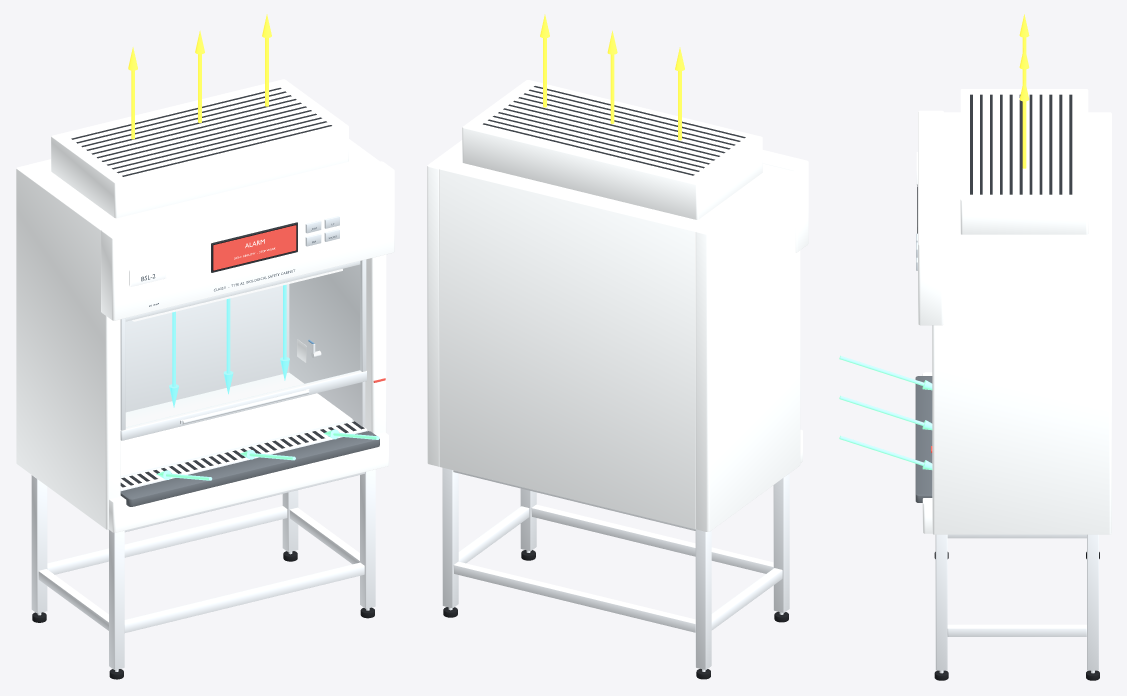
File: psm.glb
3 views of the same model, side by side, from view 1: azimuth 30°, elevation 25°; view 2: azimuth 150°, elevation 25°; view 3: azimuth 270°, elevation 25° (orthographic). The views are drawn at different scales.
Visible parts, largest first — view 1: BSC_Body, BSC_WorkZone, BSC_Sash, BSC_Stand, BSC_Armrest, BSC_Airflow, BSC_Controls, BSC_Status_Alarm; view 2: BSC_Body, BSC_Stand, BSC_Airflow; view 3: BSC_Body, BSC_Stand, BSC_Airflow, BSC_Armrest.
Part boxes in pixels (bbox=[...]): BSC_Body: bbox=[16, 79, 394, 532]; BSC_WorkZone: bbox=[120, 261, 367, 491]; BSC_Sash: bbox=[120, 259, 366, 440]; BSC_Stand: bbox=[31, 469, 375, 679]; BSC_Armrest: bbox=[120, 431, 379, 506]; BSC_Airflow: bbox=[128, 14, 379, 480]; BSC_Controls: bbox=[129, 216, 339, 306]; BSC_Status_Alarm: bbox=[213, 225, 296, 270]; BSC_Body: bbox=[427, 80, 808, 531]; BSC_Stand: bbox=[442, 468, 789, 679]; BSC_Airflow: bbox=[540, 14, 684, 140]; BSC_Body: bbox=[918, 89, 1111, 534]; BSC_Stand: bbox=[934, 534, 1099, 680]; BSC_Airflow: bbox=[839, 14, 1029, 469]; BSC_Armrest: bbox=[915, 376, 932, 502].
Size of the model in its own units: 1.35 by 2.67 by 1.16.
